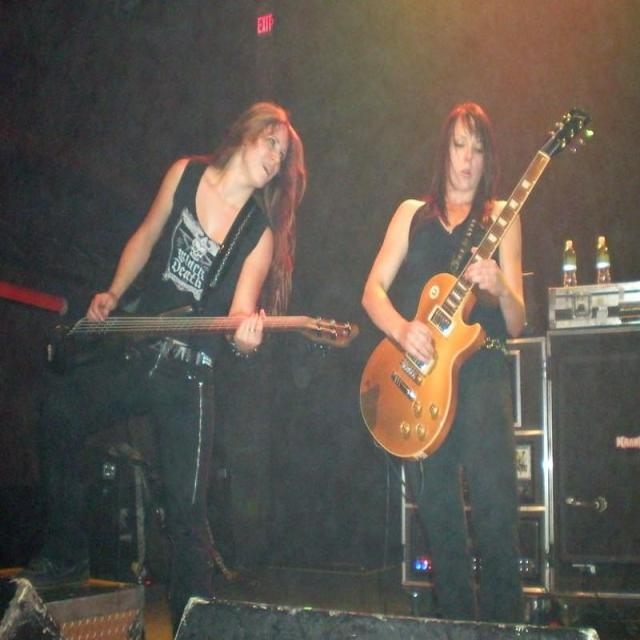bass: (48, 310, 241, 369)
guitar: (360, 109, 589, 458)
